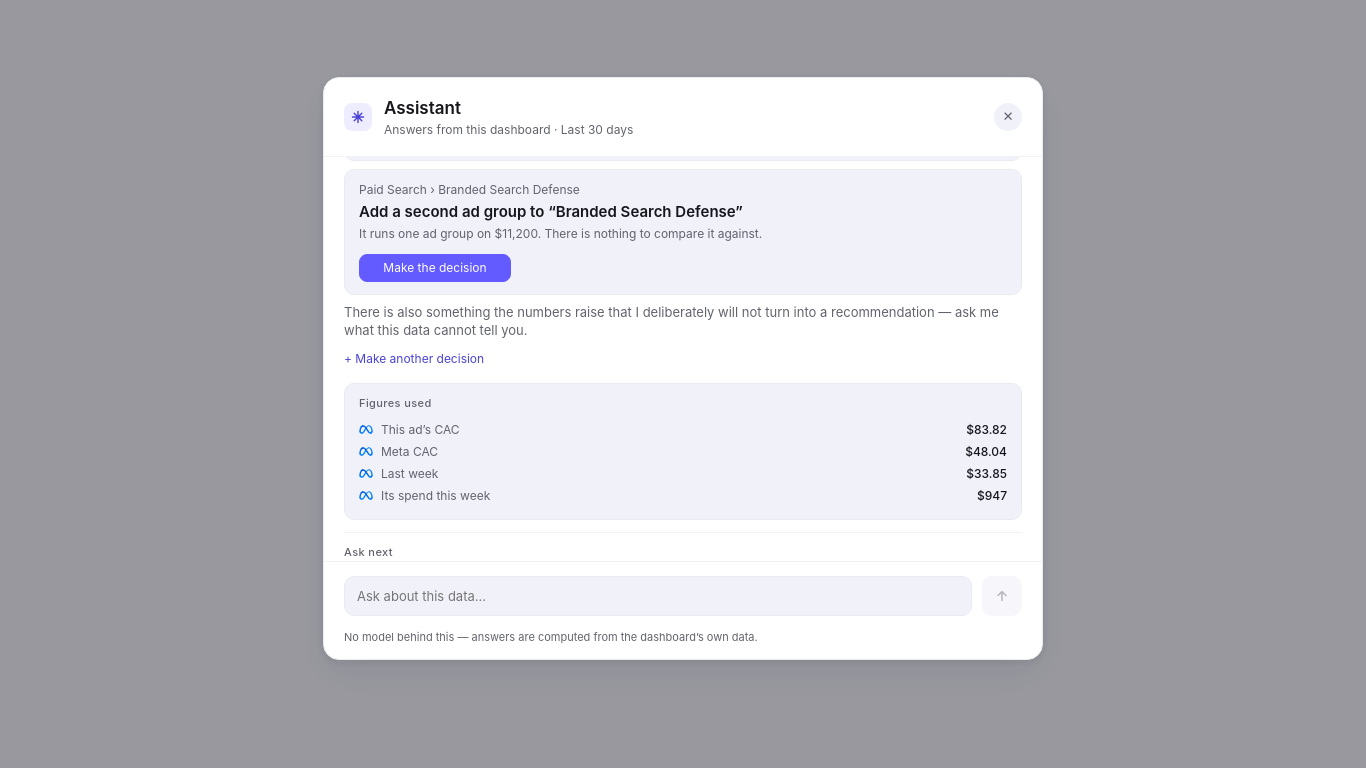
Scenario: a decision you write stays previewed, like one you accept › shows the same "On your queue" state as an accepted finding
(page scrolled)
Click the button "+ Make another decision". click: coordinates (414, 359)
box: [344,347,484,371]
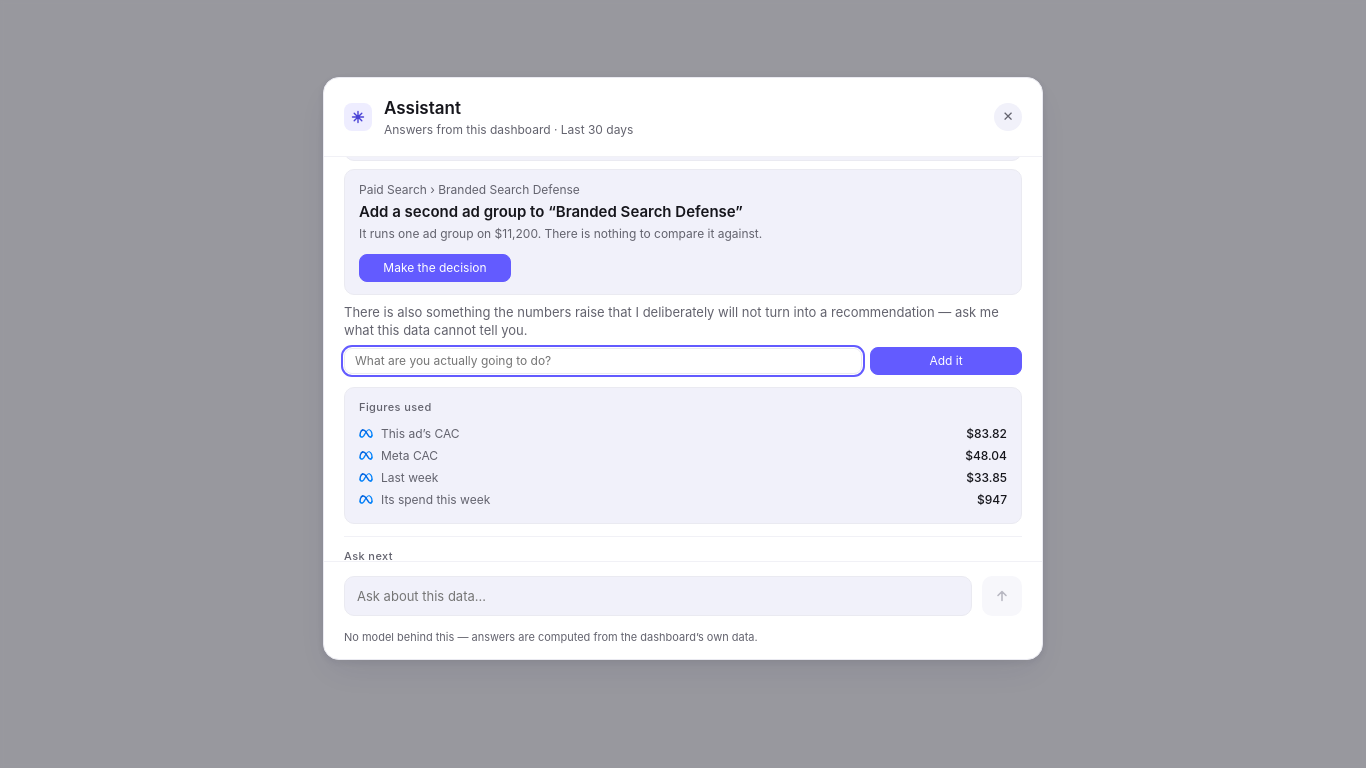
Type "Rewrite the podcast read" into the field with placeholder "What are you actually going to do?". click: coordinates (603, 361)
box: [344,348,862,374]
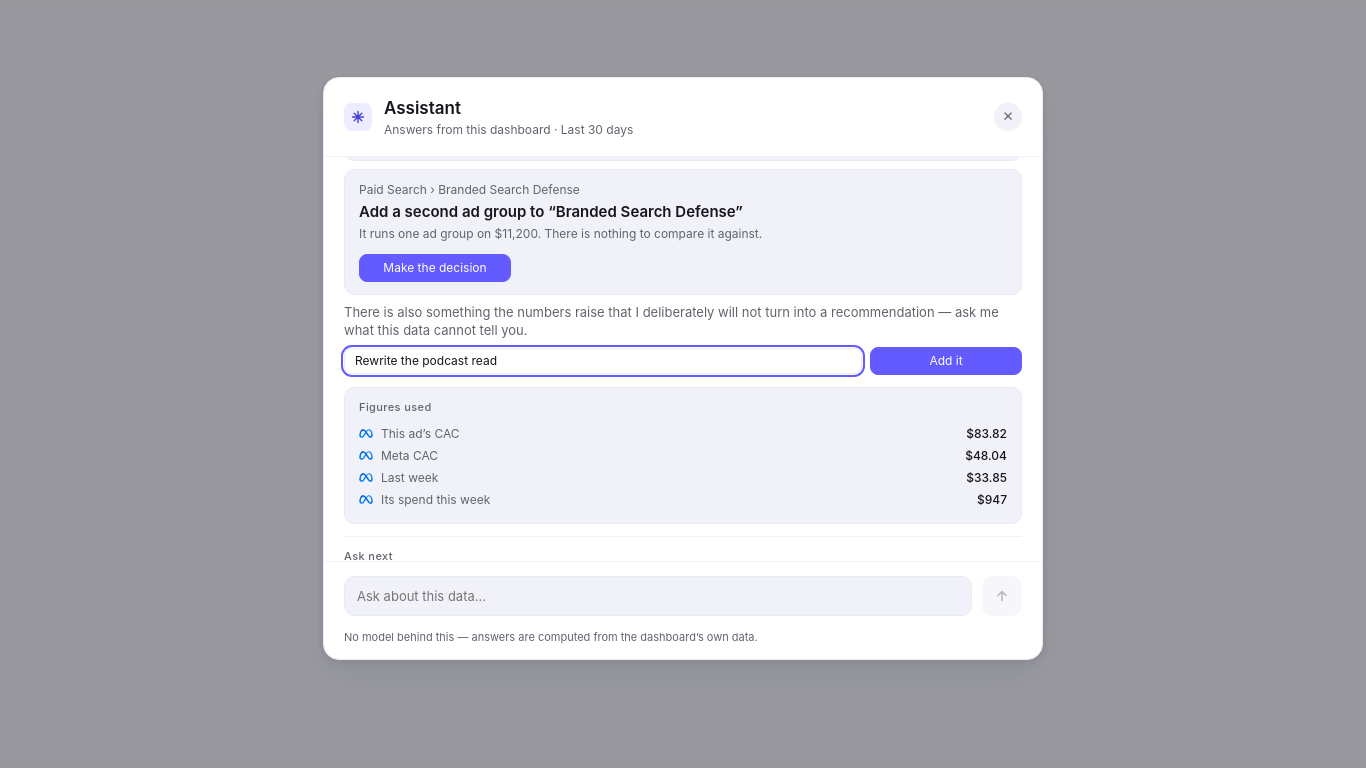
Click the button "Add it". click: coordinates (946, 361)
box: [870,347,1022,375]
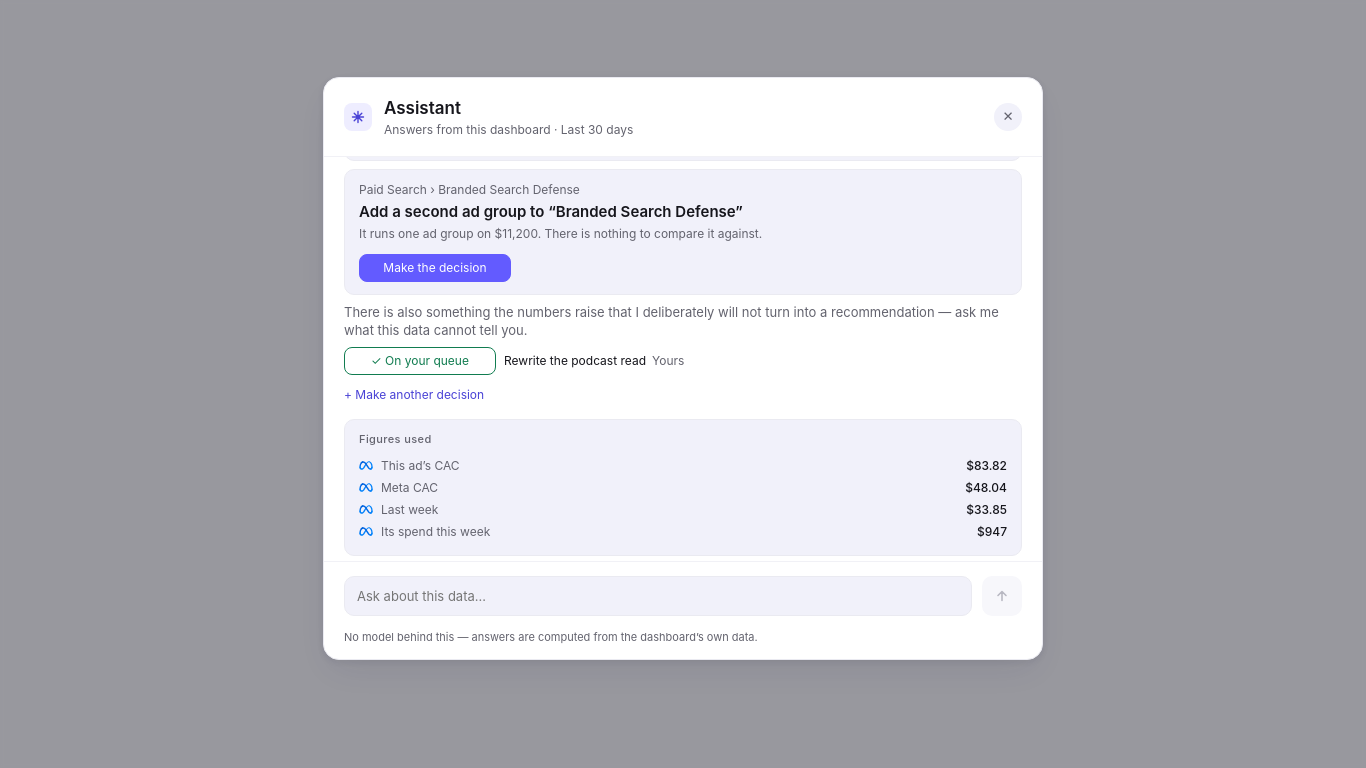
Result: the button "✓ On your queue" is shown at [344,347,496,375]
